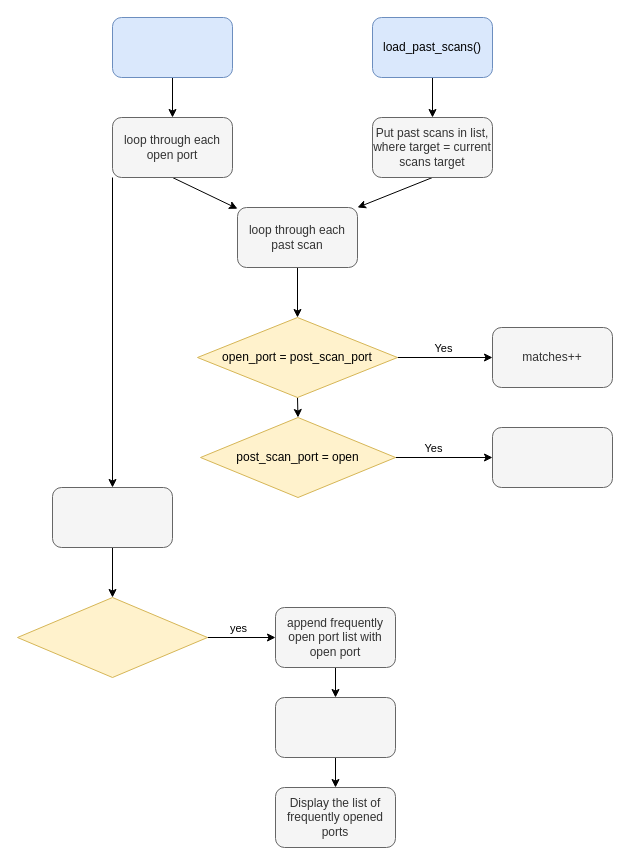
This 630x865 diagram has some shape labels left out. Here are the shapes that lost their labels. From the top down, the centre of each, then its label:
At point 172,47: "get_open_ports()".
At point 552,457: "open_matches++".
At point 112,517: "After all past scans have been looped through".
At point 112,637: "(open_matches / matches) >= 0.75".
At point 335,727: "After all open ports have been looped through".
